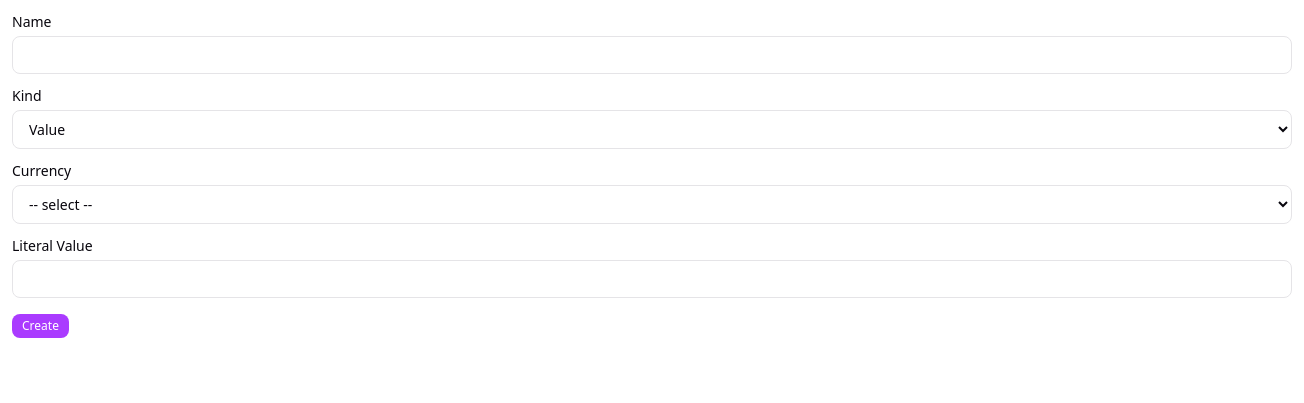
Scenario: ConceptForm › shows error alert on API failure
Type "salary" into the field labelled "Name" at (652, 55), box x1=12 y1=36 x2=1292 y2=74
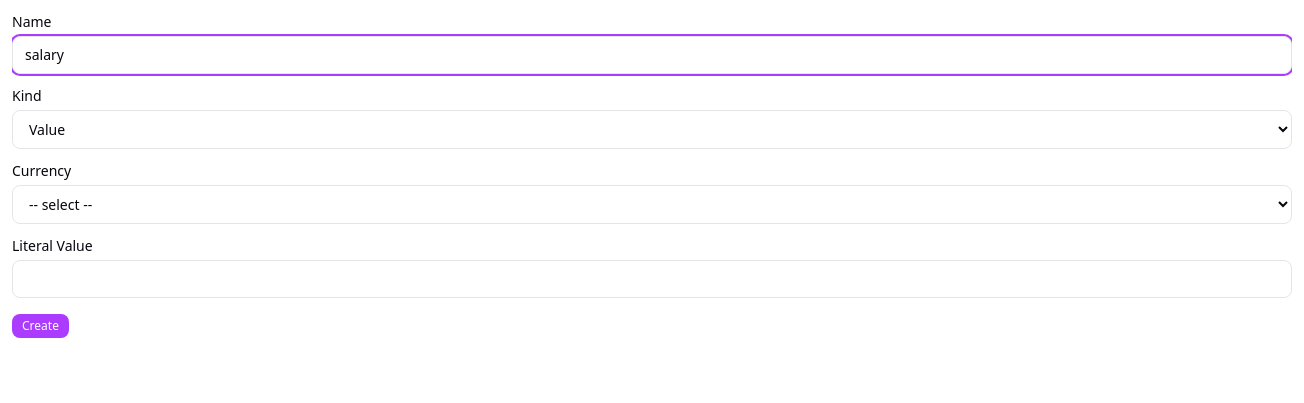
Select "US Dollar" in the dropdown labelled "Currency" at (652, 204), box x1=12 y1=185 x2=1292 y2=224
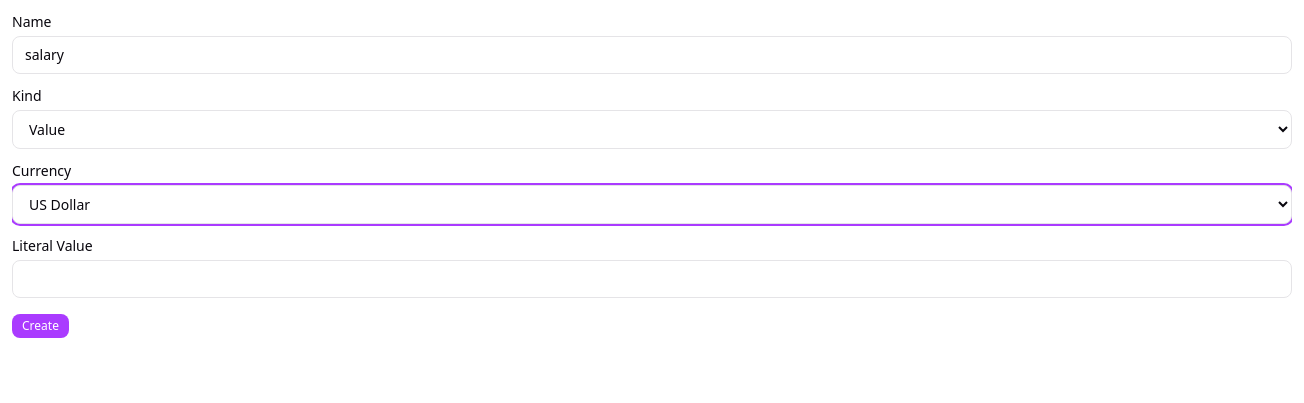
Click the button "Create" at (40, 326), box x1=12 y1=314 x2=69 y2=338
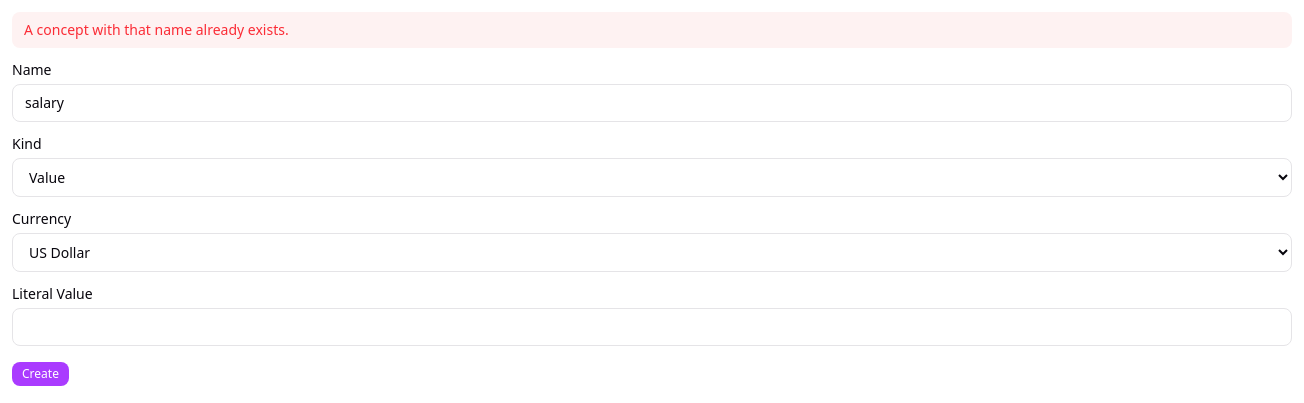
Check: the message "A concept with that name already exists." is shown, box x1=12 y1=12 x2=1292 y2=48
